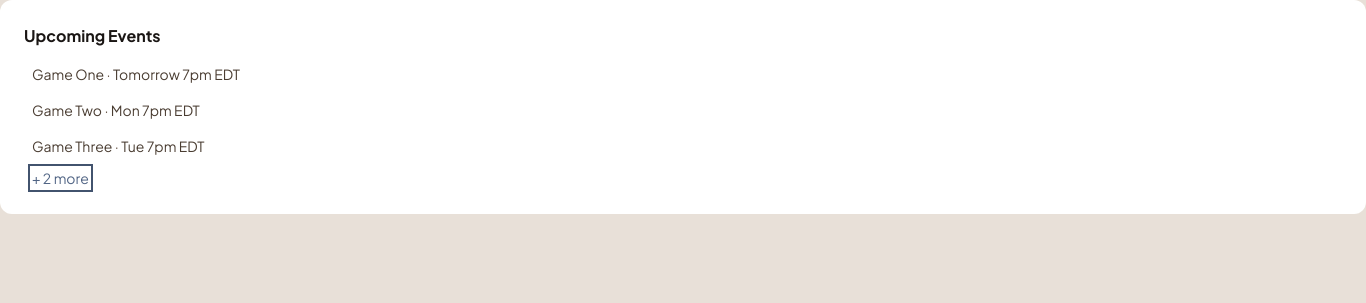
Test: a refresh keeps the rows (88.6.1-62, D-09a / D-41, RF1) › U5 (r2 #227, Req 5): the overflow toggle is ONE node — pressing it keeps focus and flips aria-expanded
Click the button "+ 2 more".
click(60, 178)  # box [32,168,89,188]
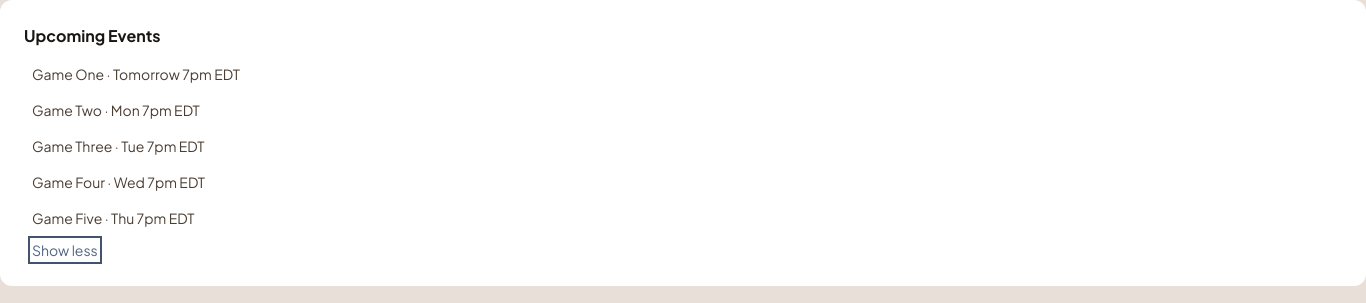
Expected: the button named "+ 2 more" is expanded
Click the button named "+ 2 more".
click(65, 250)  # box [32,240,98,260]
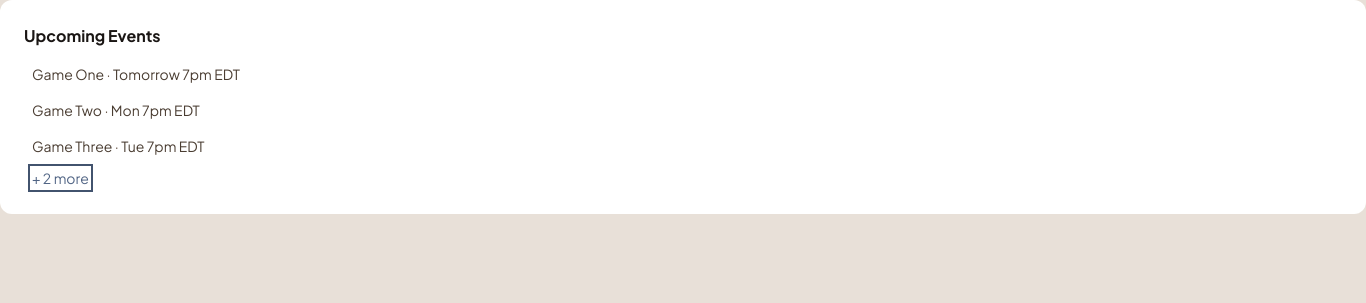
Expected: the button "+ 2 more" is collapsed, [32,168,89,188]
